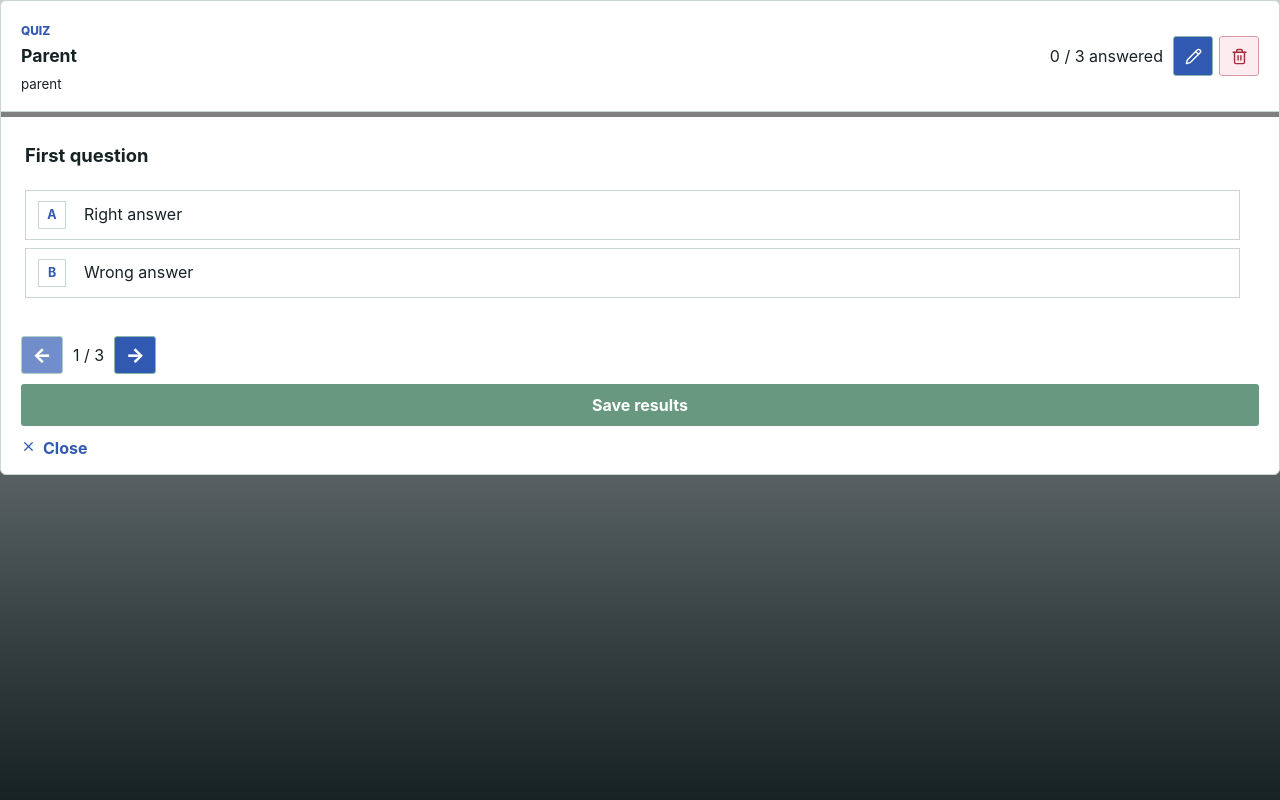
Test case: never deletes on opening the dialog or cancelling; requires explicit permanent confirmation
Later steps or results of the test are not shown.
Click the button named "Delete this check" at (1239, 56), box [1219,36,1259,76]
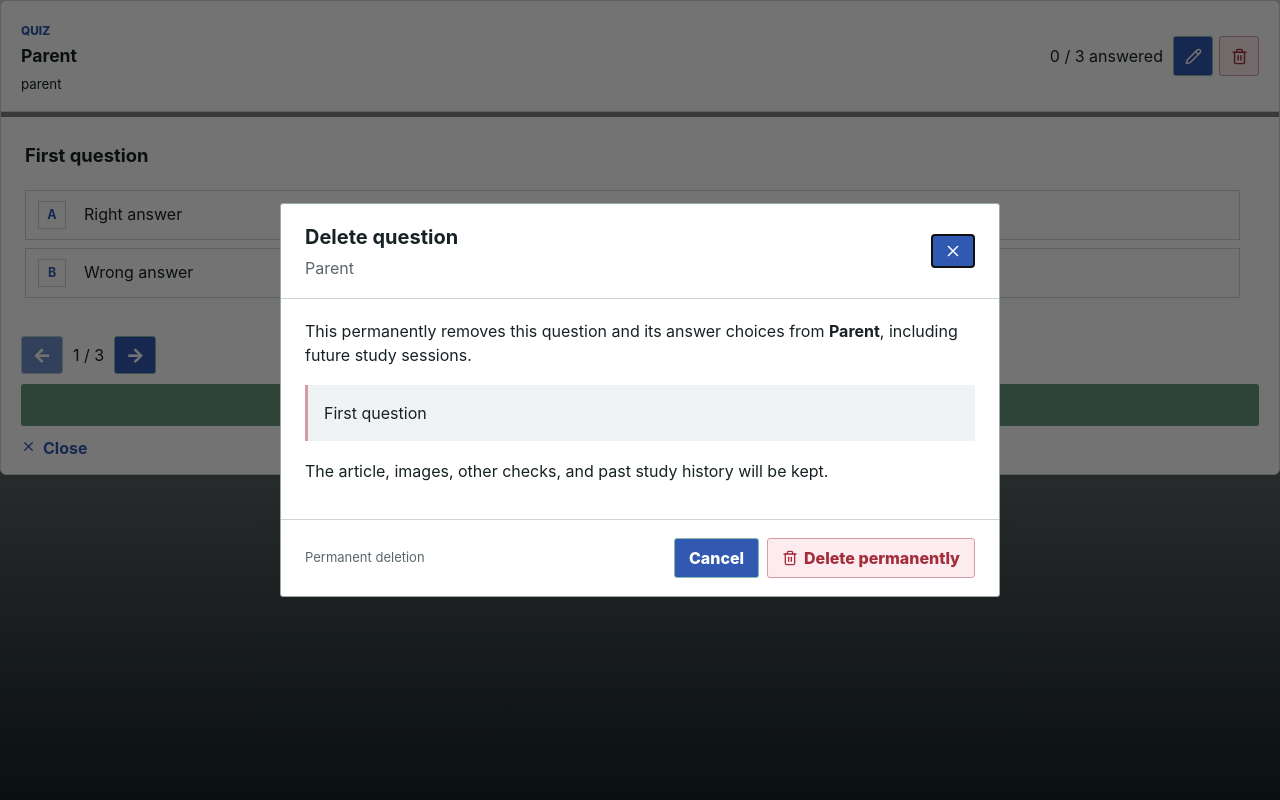
Result: the button "Delete permanently" is enabled at [767,538,975,578]
